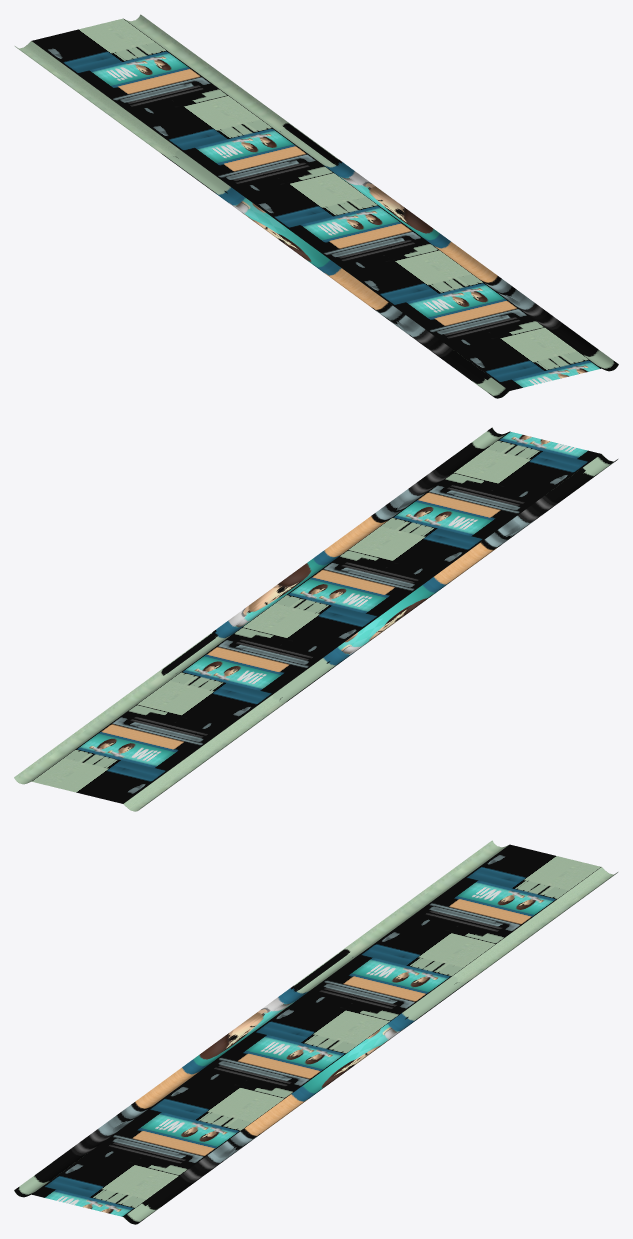
Rendered from BL_Lane.fbx.
3 views of the same model, one above another, from view 1: azimuth 30°, elevation 25°; view 2: azimuth 150°, elevation 25°; view 3: azimuth 330°, elevation 25° (orthographic).
Visible parts, largest first — view 1: Bowling_Lane_LOD0; view 2: Bowling_Lane_LOD0; view 3: Bowling_Lane_LOD0.
Part boxes in pixels (box(x1,y1,x2,y2)): Bowling_Lane_LOD0: box(15, 14, 618, 398); Bowling_Lane_LOD0: box(14, 427, 617, 811); Bowling_Lane_LOD0: box(14, 840, 617, 1224).
Size of what is drawn, in the model's own units: 279 by 9.93 by 1822.
